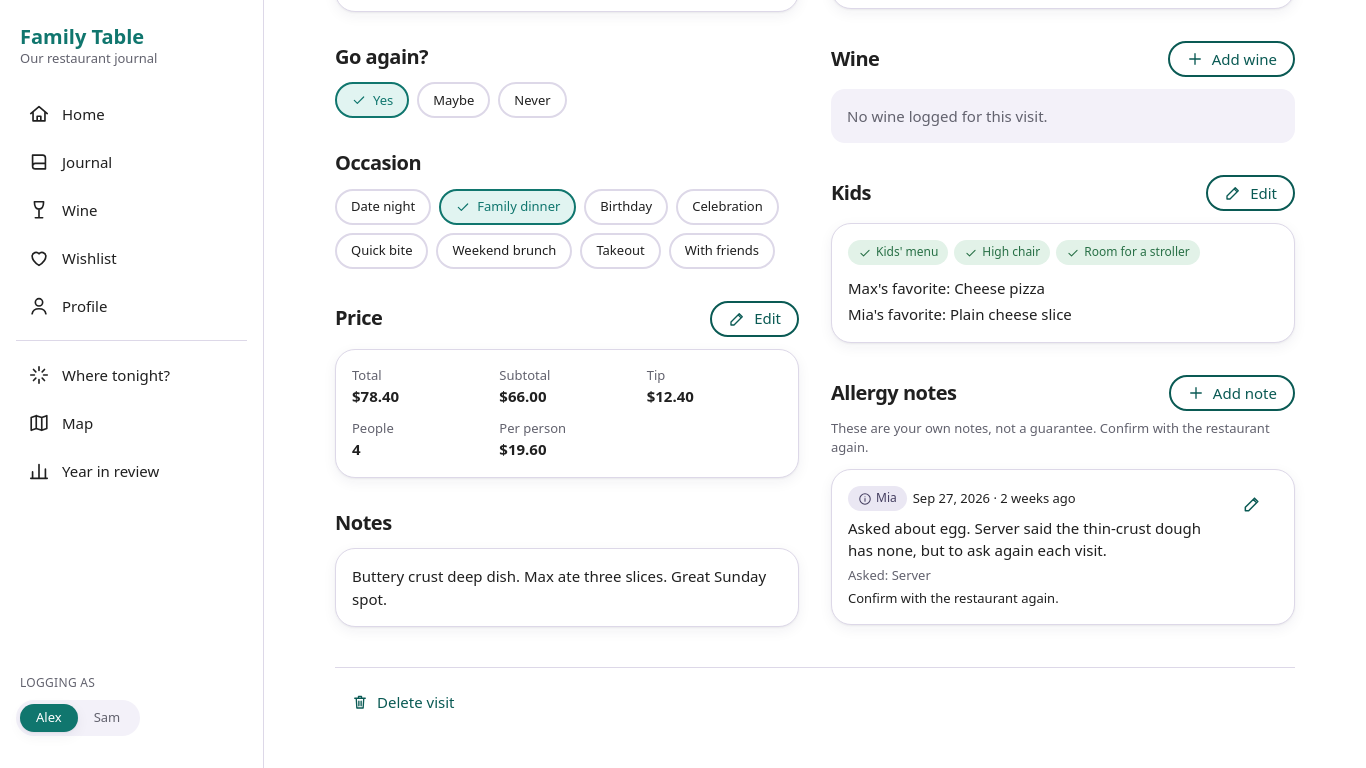
visit detail › adds an allergy note stamped with today’s date
This screenshot has width=1366, height=768.
(page scrolled)
Click the button "Add note".
click(1232, 393)  # box top-left (1169, 375), bottom-right (1295, 411)
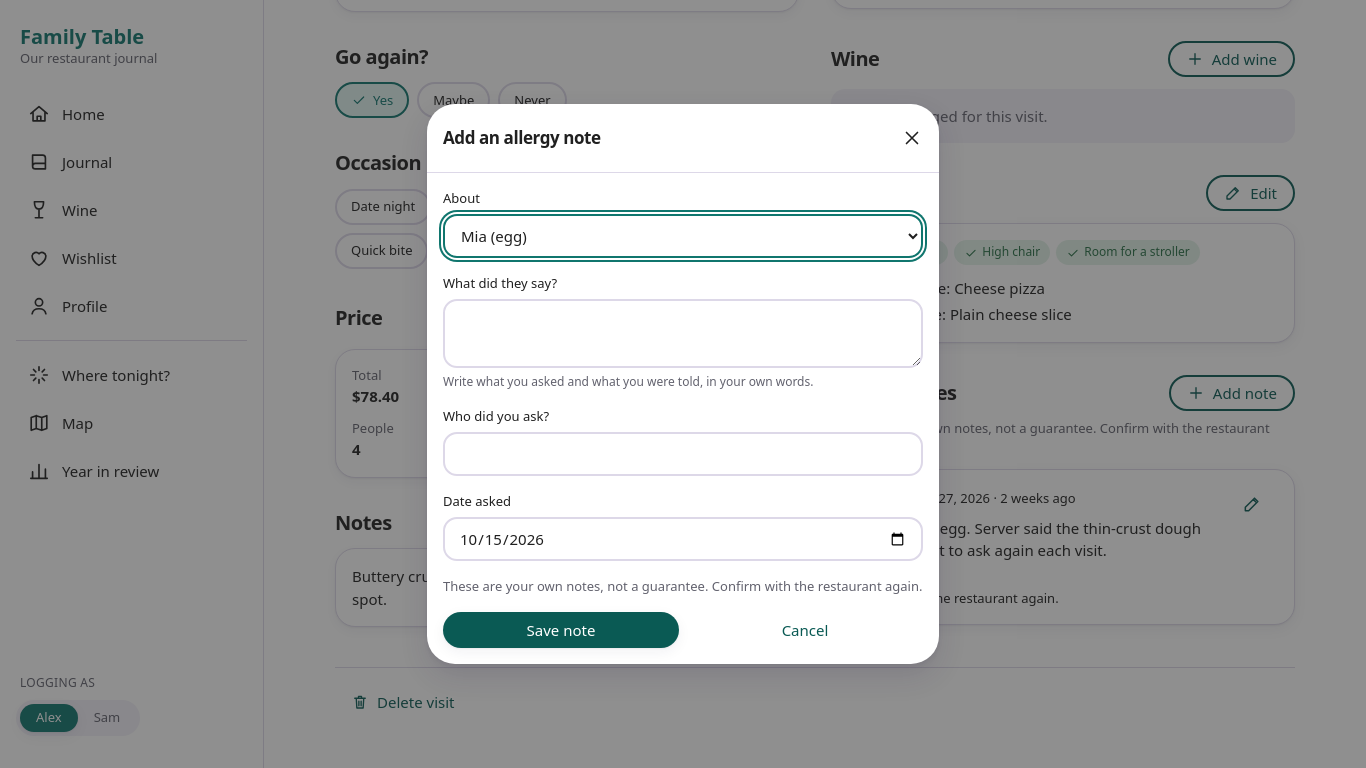
Type "No egg in the garlic bread" into the text box labelled "What did they say?".
click(683, 334); type("No egg in the garlic bread")  # box top-left (443, 299), bottom-right (923, 368)
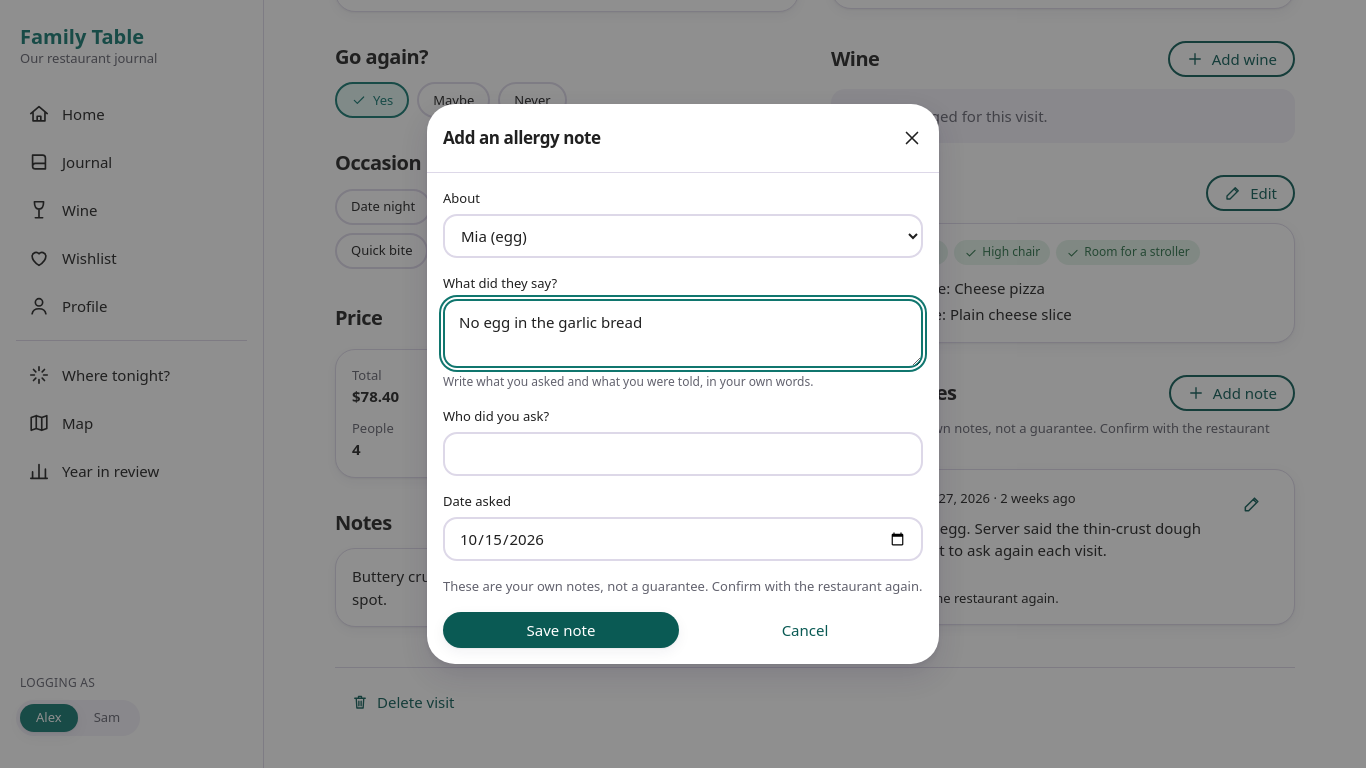
Type "Manager" into the field labelled "Who did you ask?".
click(683, 454); type("Manager")  # box top-left (443, 432), bottom-right (923, 476)
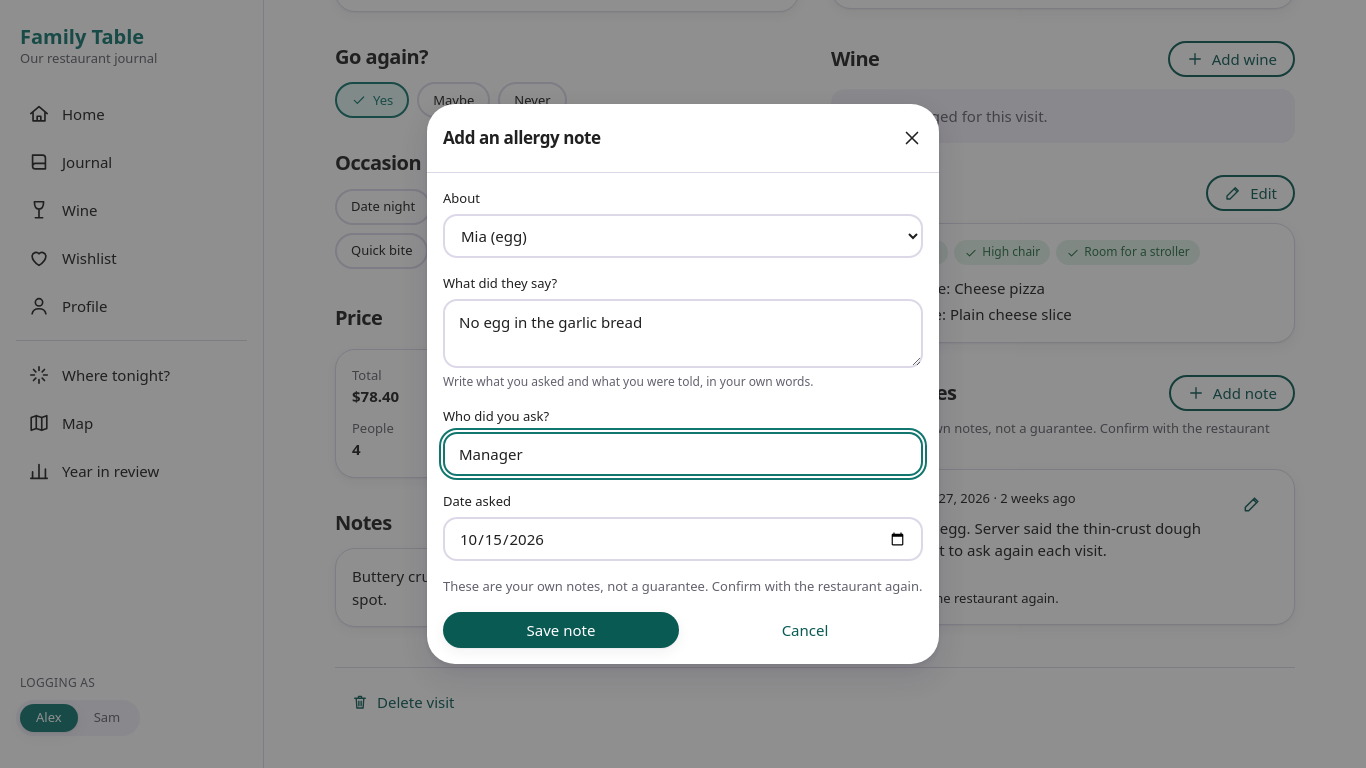
Click the button "Save note".
click(561, 630)  # box top-left (443, 612), bottom-right (679, 648)
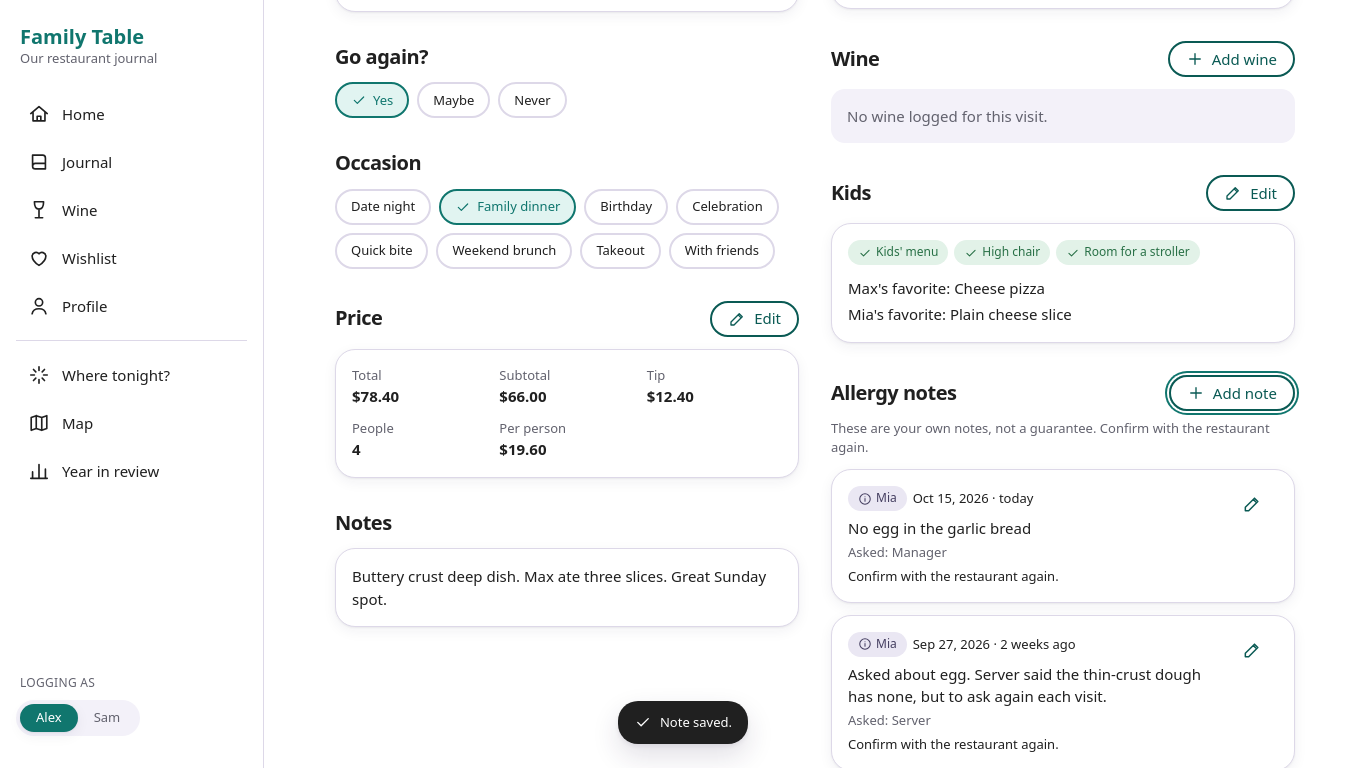
Expected: the text "guaranteed" is not shown
Expected: the text "No egg in the garlic bread" is shown, top-left (848, 518), bottom-right (1031, 538)
